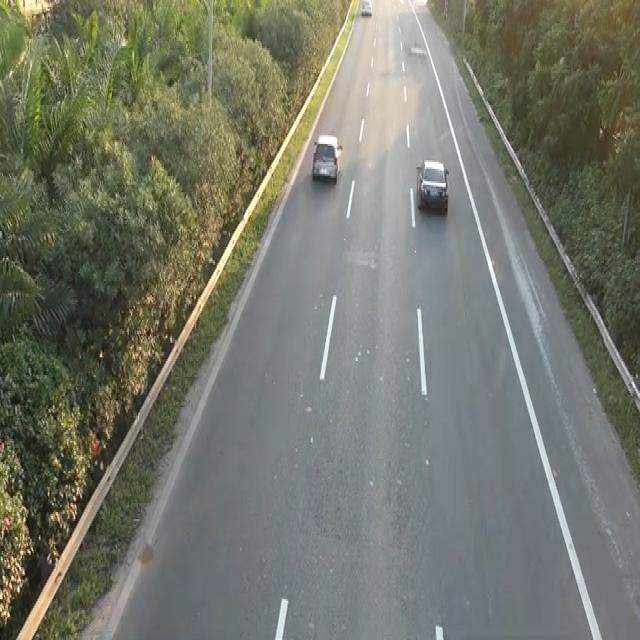bus: (414, 154, 452, 220), (310, 131, 343, 185), (359, 0, 372, 18)
